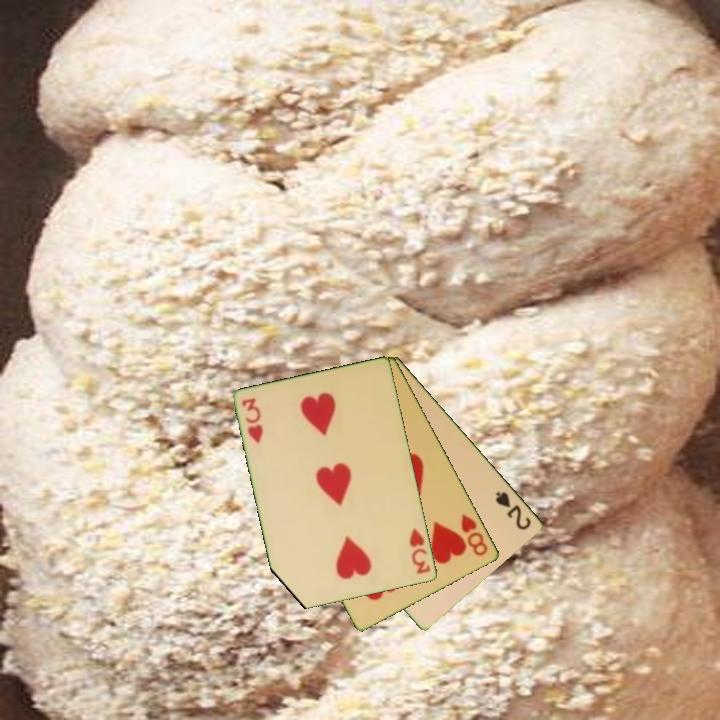2s: (492, 488, 534, 533)
3h: (406, 525, 434, 577), (239, 394, 266, 447)
8h: (458, 510, 491, 559)
